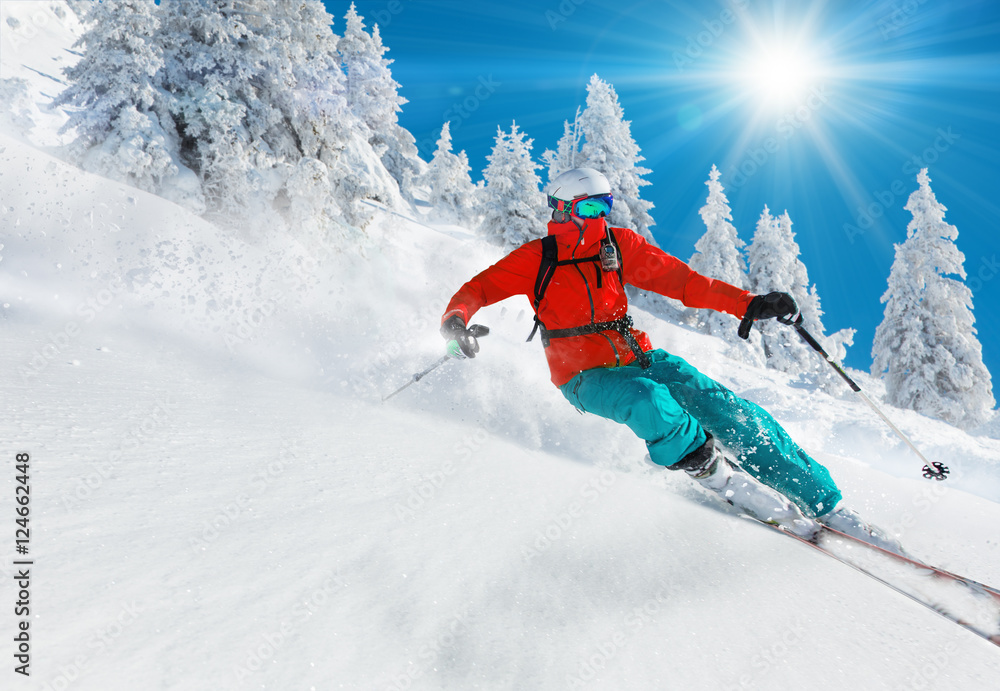skier: (373, 158, 1000, 653)
